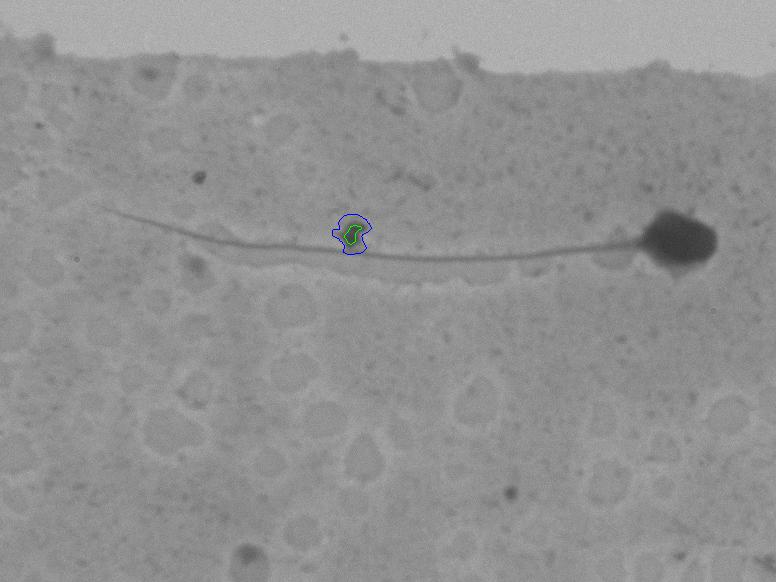Abnormal: (93, 143, 742, 337)
